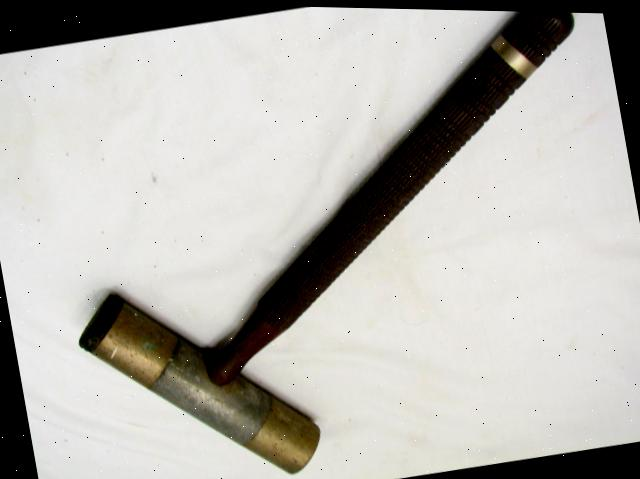hammer: (20, 0, 640, 479)
